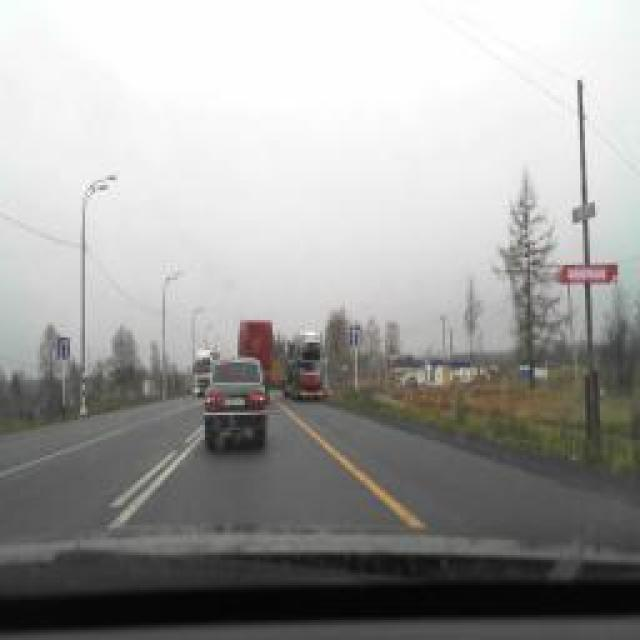sign: (58, 336, 70, 359), (349, 326, 361, 346)
